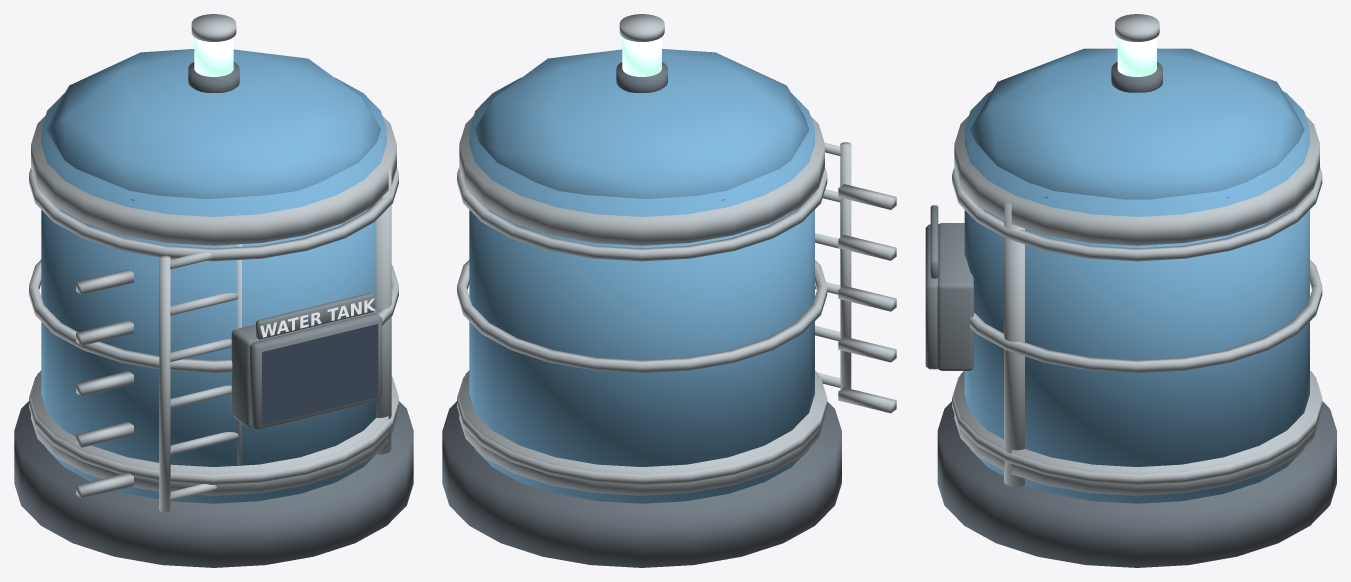
File: water_tank_enhanced.glb
3 views of the same model, side by side, from view 1: azimuth 30°, elevation 25°; view 2: azimuth 150°, elevation 25°; view 3: azimuth 270°, elevation 25° (orthographic).
Parts seen in each view (by area): view 1: Tank_blue_legacy_1, Base_dark_legacy_0, Bands_steel_legacy_2, Band_steel_legacy_14, Ladder_steel_legacy_11, LiveViewSurface_glass, LiveViewSurfaceFrame_frame, Pipe_steel_legacy_7, ScreenMount_frame, TypePlate_frame, StatusLight_safe_legacy_9, Beacon_steel_legacy_10 (+2 smaller); view 2: Tank_blue_legacy_1, Base_dark_legacy_0, Bands_steel_legacy_2, Band_steel_legacy_14, Ladder_steel_legacy_11, StatusLight_safe_legacy_9, Beacon_steel_legacy_10, Beacon_dark_legacy_8; view 3: Tank_blue_legacy_1, Base_dark_legacy_0, Bands_steel_legacy_2, Band_steel_legacy_14, ScreenMount_frame, Pipe_steel_legacy_7, LiveViewSurfaceFrame_frame, StatusLight_safe_legacy_9, Beacon_steel_legacy_10, Beacon_dark_legacy_8, TypePlate_frame.
Part boxes in pixels (<box>): Tank_blue_legacy_1: <box>41,49,386,503</box>; Base_dark_legacy_0: <box>14,401,413,567</box>; Bands_steel_legacy_2: <box>31,116,396,495</box>; Band_steel_legacy_14: <box>29,168,398,484</box>; Ladder_steel_legacy_11: <box>76,244,241,512</box>; LiveViewSurface_glass: <box>262,324,378,425</box>; LiveViewSurfaceFrame_frame: <box>250,312,381,430</box>; Pipe_steel_legacy_7: <box>376,166,391,454</box>; ScreenMount_frame: <box>231,309,377,427</box>; TypePlate_frame: <box>256,292,374,339</box>; StatusLight_safe_legacy_9: <box>194,37,233,76</box>; Beacon_steel_legacy_10: <box>191,14,236,41</box>; Tank_blue_legacy_1: <box>469,49,814,503</box>; Base_dark_legacy_0: <box>442,401,841,567</box>; Bands_steel_legacy_2: <box>459,116,824,495</box>; Band_steel_legacy_14: <box>457,167,827,484</box>; Ladder_steel_legacy_11: <box>815,142,896,413</box>; StatusLight_safe_legacy_9: <box>622,37,661,76</box>; Beacon_steel_legacy_10: <box>619,14,664,41</box>; Beacon_dark_legacy_8: <box>616,62,667,92</box>; Tank_blue_legacy_1: <box>964,48,1309,503</box>; Base_dark_legacy_0: <box>937,401,1336,567</box>; Bands_steel_legacy_2: <box>954,116,1319,495</box>; Band_steel_legacy_14: <box>952,167,1322,484</box>; ScreenMount_frame: <box>937,223,973,370</box>; Pipe_steel_legacy_7: <box>1004,201,1024,486</box>; LiveViewSurfaceFrame_frame: <box>925,224,937,369</box>; StatusLight_safe_legacy_9: <box>1117,37,1156,76</box>; Beacon_steel_legacy_10: <box>1115,14,1159,41</box>; Beacon_dark_legacy_8: <box>1111,62,1162,92</box>; TypePlate_frame: <box>930,205,938,278</box>.
Bounding box in the file's own units: 1.88 × 2.26 × 1.84.
